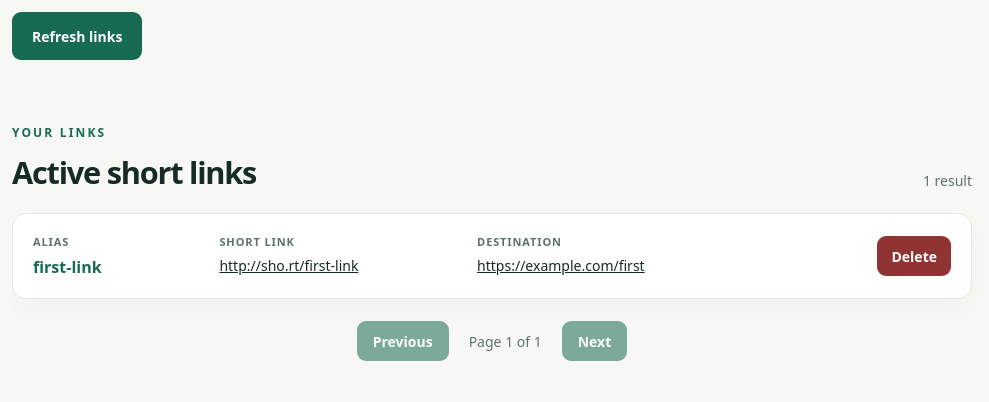
Test: ShortLinkList › deletes immediately, shows success, and removes the link from the active list
Expected: the text "first-link" is shown, 33,256 -> 102,278
Click the button "Delete": (914, 256) 878,236 -> 951,276
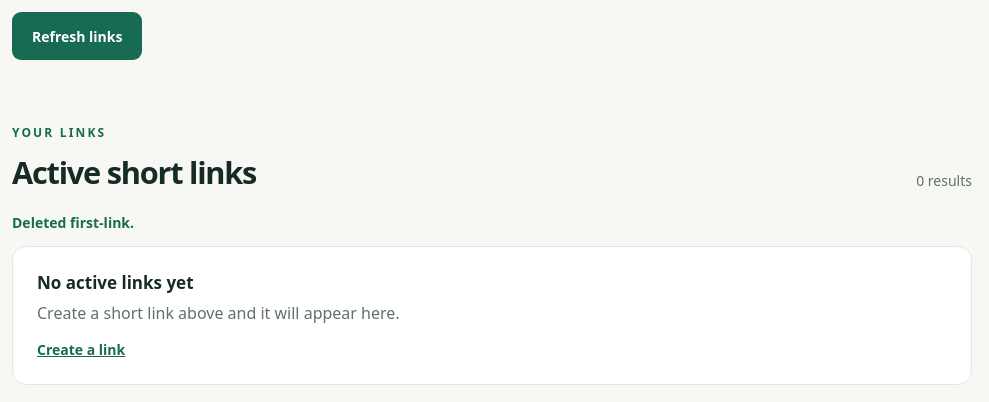
Expected: the text "Deleted first-link." is shown, 12,213 -> 134,232
Expected: the heading "No active links yet" is shown, 37,271 -> 194,294
